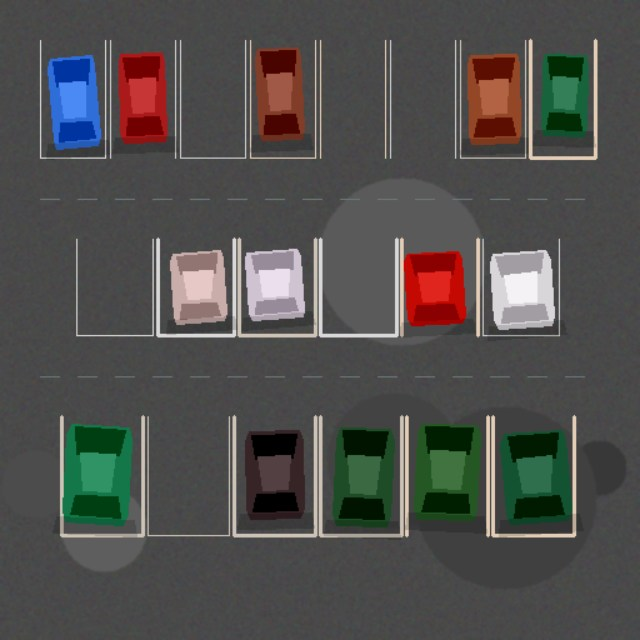space-empty: (147, 416, 229, 535), (180, 40, 245, 158), (320, 40, 385, 158), (390, 40, 455, 158), (76, 239, 153, 335), (320, 239, 396, 335)
space-occupied: (61, 416, 143, 535), (234, 416, 315, 535), (320, 416, 401, 535), (406, 416, 487, 535), (493, 416, 574, 535), (40, 40, 105, 158), (110, 40, 175, 158), (250, 40, 315, 158), (460, 40, 525, 158), (530, 40, 595, 158), (157, 239, 234, 335), (239, 239, 315, 335), (401, 239, 477, 335), (483, 239, 559, 335)
